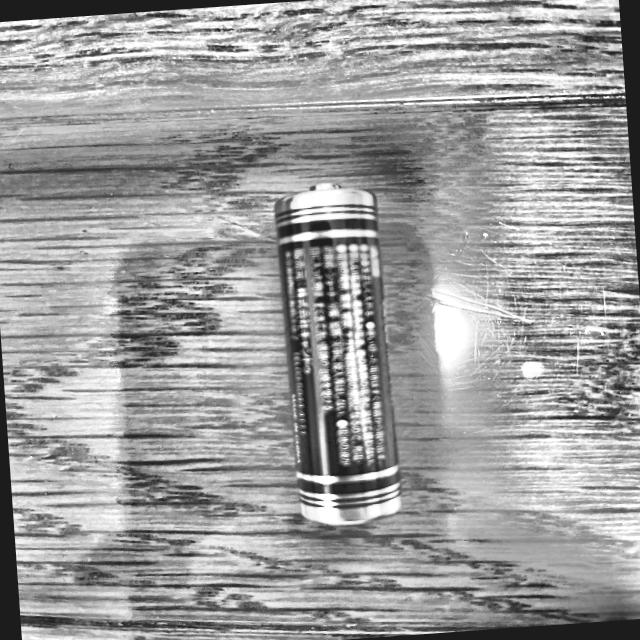drycell: (264, 168, 418, 535)
